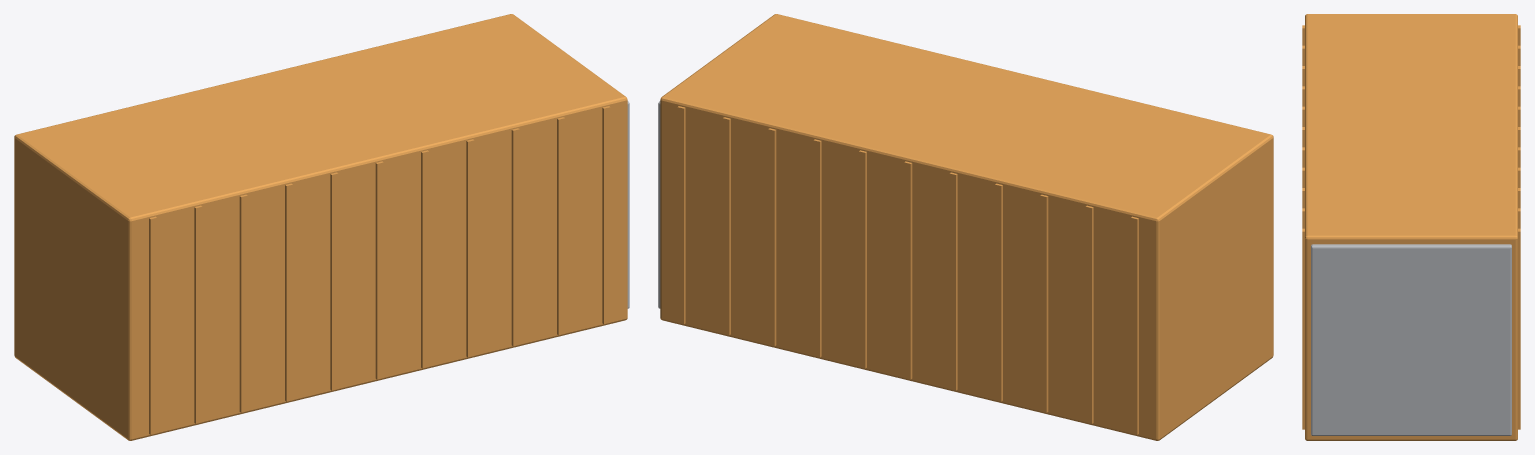
Rendered from container_orange.glb.
3 views of the same model, side by side, from view 1: azimuth 30°, elevation 25°; view 2: azimuth 150°, elevation 25°; view 3: azimuth 270°, elevation 25° (orthographic). The views are drawn at different scales.
Visible parts, largest first — view 1: shell, rib.002, rib.004, rib.005, rib.007, rib.010, rib.001, rib.008, rib.009, rib, rib.003, rib.006 (+1 smaller); view 2: shell, rib.002, rib.004, rib.005, rib.007, rib.010, rib.001, rib.008, rib.009, rib, rib.003, rib.006 (+1 smaller); view 3: shell, door, rib.010.
Boxes of the visible parts, x1,y1,x2,y2 form: shell: (14,14,627,440); rib.002: (239,194,247,412); rib.004: (330,172,338,390); rib.005: (375,161,383,379); rib.007: (466,139,474,357); rib.010: (602,106,610,324); rib.001: (194,205,202,423); rib.008: (511,128,519,346); rib.009: (557,117,564,335); rib: (149,216,156,434); rib.003: (285,183,292,401); rib.006: (421,150,428,368); shell: (660,14,1273,440); rib.002: (1040,194,1048,412); rib.004: (949,172,957,390); rib.005: (904,161,912,379); rib.007: (813,139,821,357); rib.010: (677,106,685,324); rib.001: (1085,205,1093,423); rib.008: (768,128,776,346); rib.009: (723,117,730,335); rib: (1131,216,1138,434); rib.003: (995,183,1002,401); rib.006: (859,150,866,368); shell: (1305,14,1517,440); door: (1311,244,1511,435); rib.010: (1302,228,1520,429).
Bounding box in the file's own units: 6.12 × 2.59 × 2.5.
